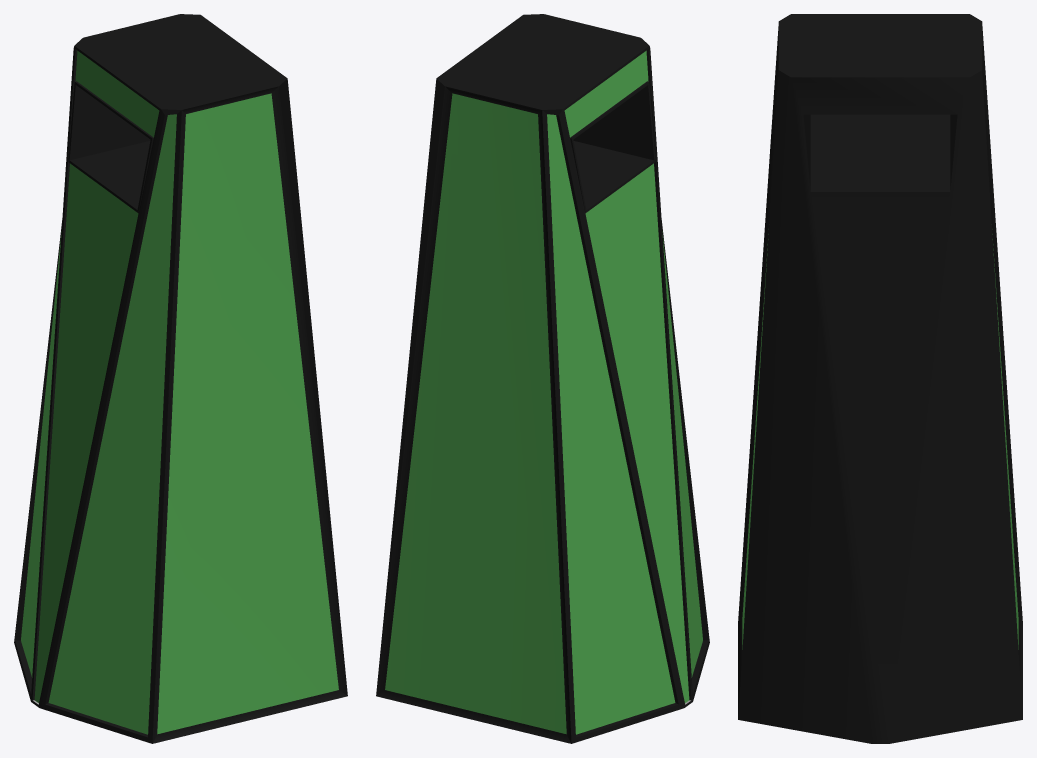
3 renders of one model, left to right at view 1: azimuth 30°, elevation 25°; view 2: azimuth 150°, elevation 25°; view 3: azimuth 270°, elevation 25°, orthographic. The views are drawn at different scales.
Parts seen in each view (by area): view 1: pCube6; view 2: pCube6; view 3: pCube6.
Part boxes in pixels (box(x1,y1,x2,y2)): pCube6: box(14, 14, 347, 743); pCube6: box(376, 14, 709, 743); pCube6: box(738, 14, 1022, 743).
Bounding box in the file's own units: 198 × 394 × 163.
